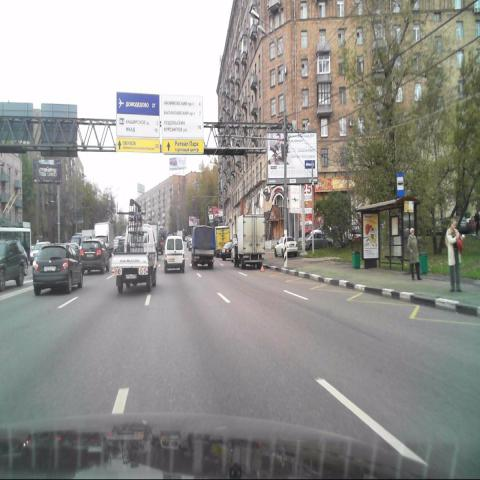5_16: (396, 172, 404, 197)
